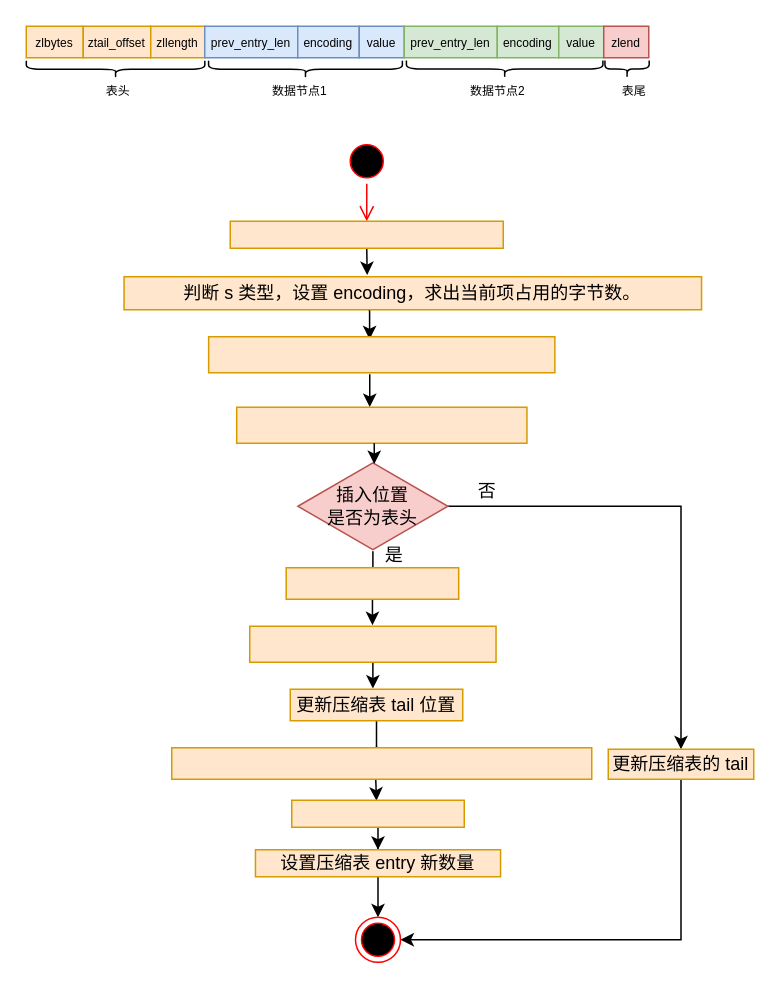
Some shapes in this 780 by 989 pixel diagram are drawn without their labels. The box of each missing label's shape, as (x1, y1, x2, y2) in pixels:
保存 content: (290, 799, 464, 827)
更新第二项记录的前一项长度: (248, 625, 496, 662)
根据 nextdiff 决定是否要重新调整压缩表: (170, 746, 592, 779)
用 realloc 重新分配整个压缩表空间: (235, 406, 527, 443)
移动数据: (285, 566, 459, 599)
计算出要插入的新项占用的总字节数: (207, 335, 555, 373)
计算插入位置前一项的长度: (229, 220, 503, 248)
